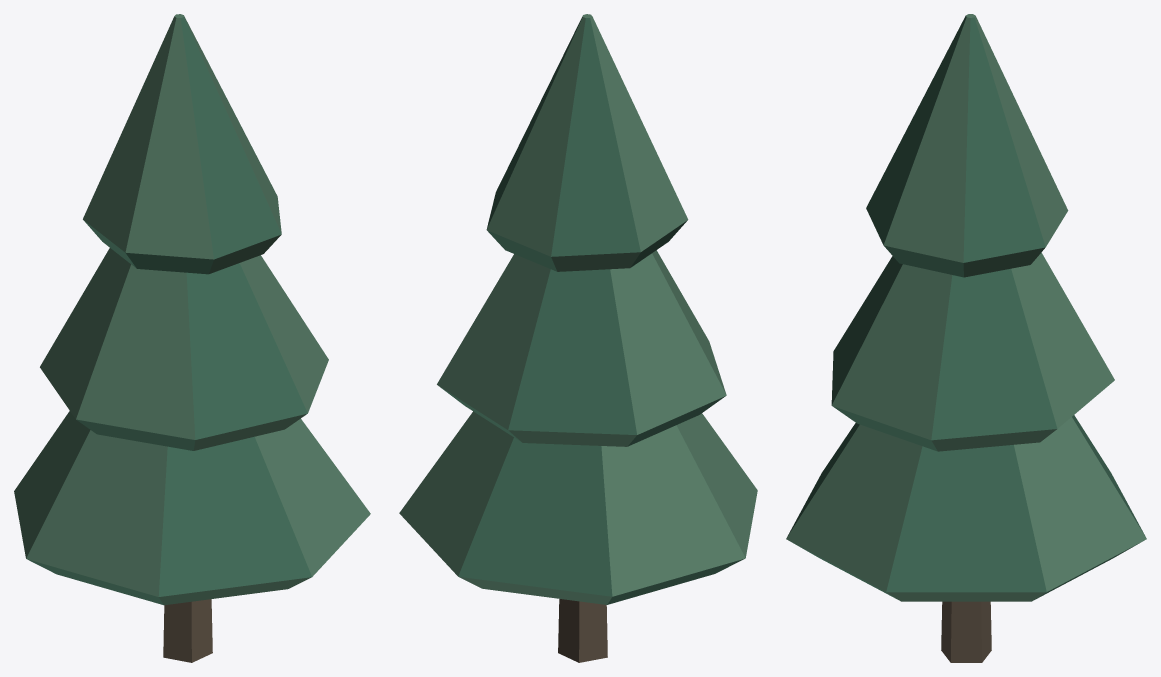
Rendered from Tree_Conifer.fbx.
3 views of the same model, side by side, from view 1: azimuth 30°, elevation 25°; view 2: azimuth 150°, elevation 25°; view 3: azimuth 270°, elevation 25° (orthographic).
Parts seen in each view (by area): view 1: Tree_Conifer; view 2: Tree_Conifer; view 3: Tree_Conifer.
Part boxes in pixels (x1,y1,x2,y2): Tree_Conifer: [14, 14, 370, 662]; Tree_Conifer: [399, 14, 757, 662]; Tree_Conifer: [786, 14, 1146, 662].
Bounding box in the file's own units: 1.25 × 2.5 × 1.29.
